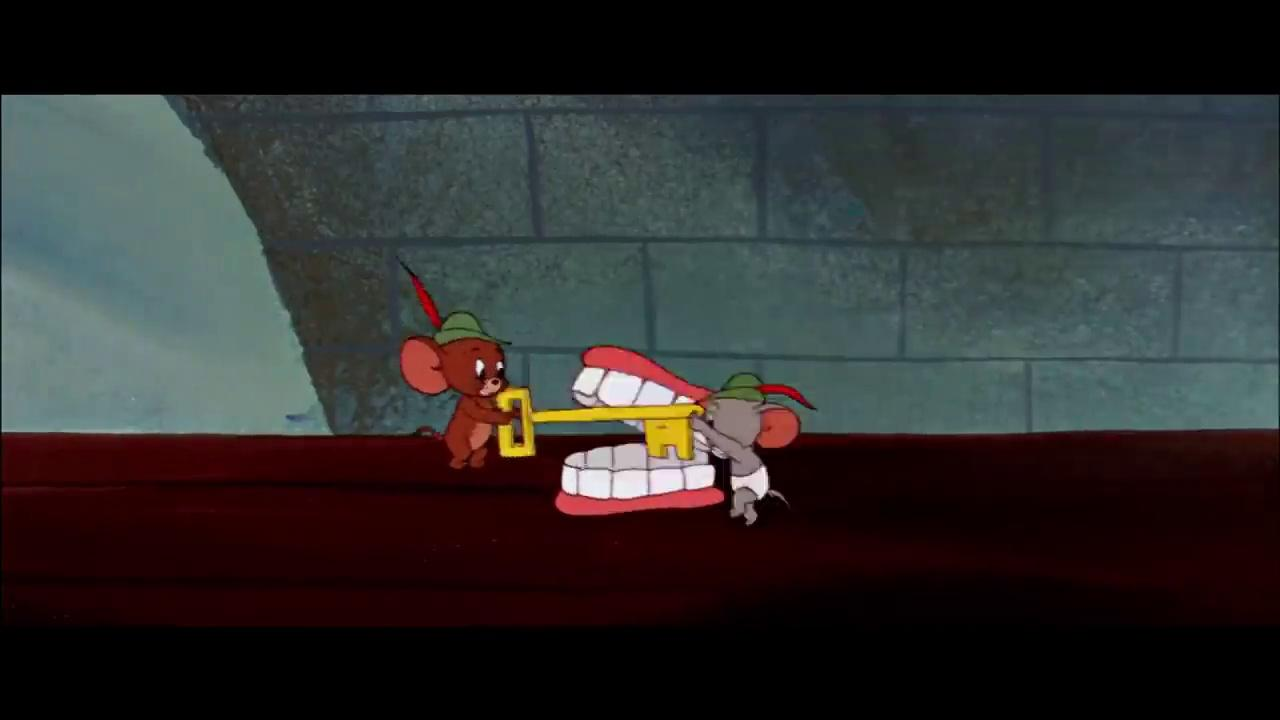Jerry: (398, 333, 525, 470)
